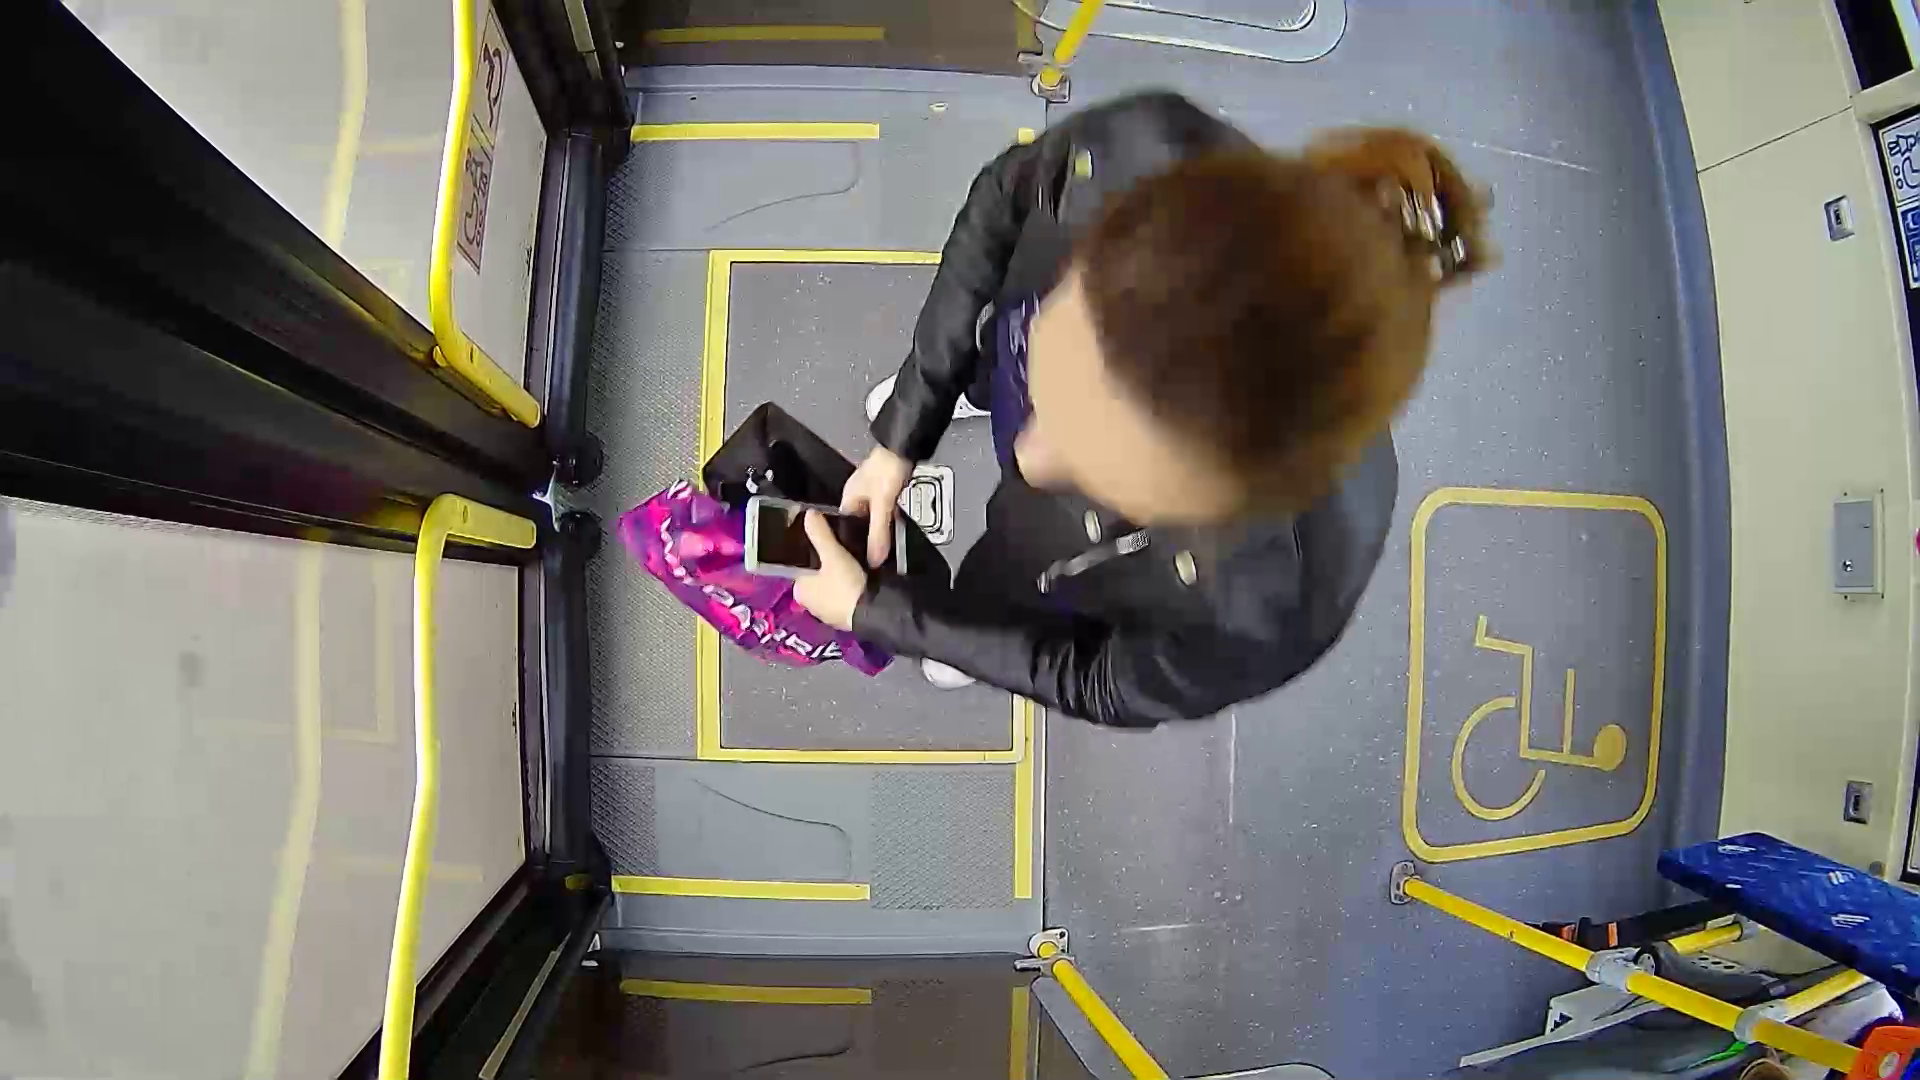person: (665, 91, 1557, 754)
